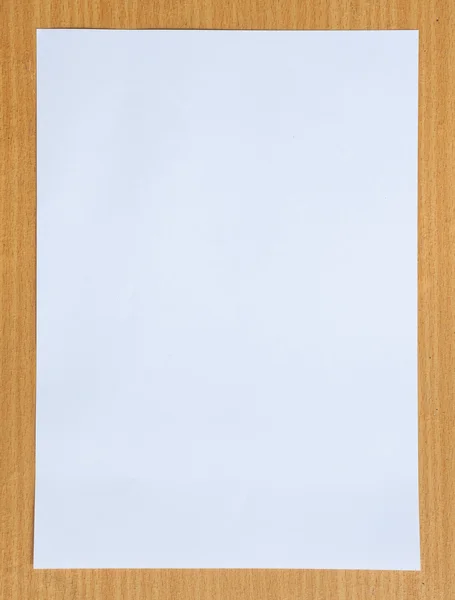page: (39, 32, 416, 566)
